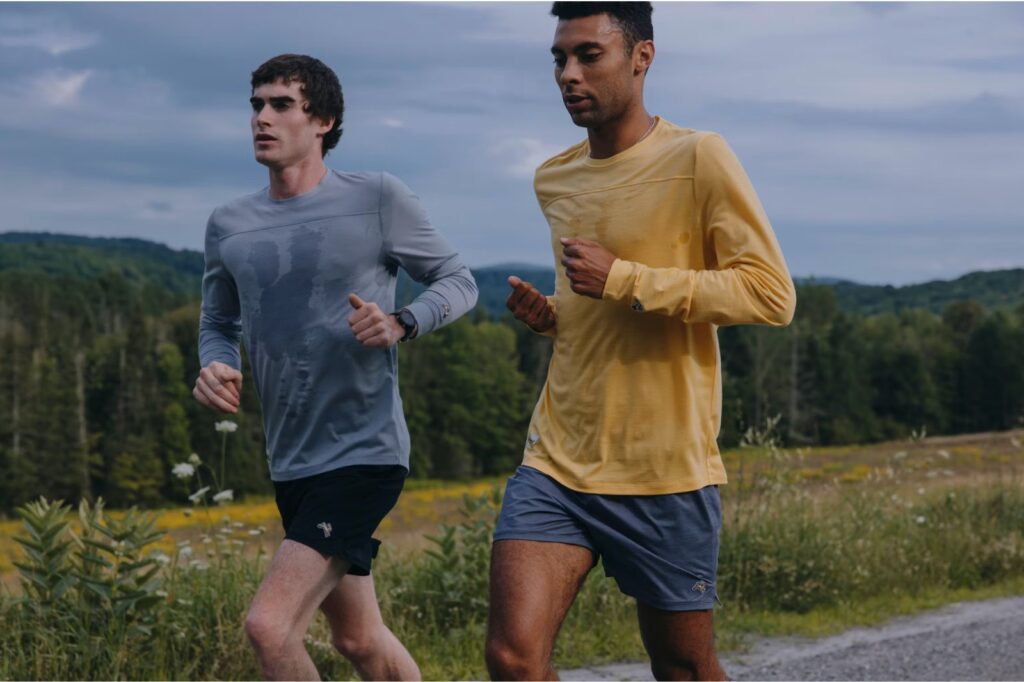egg: (102, 68, 921, 613)
